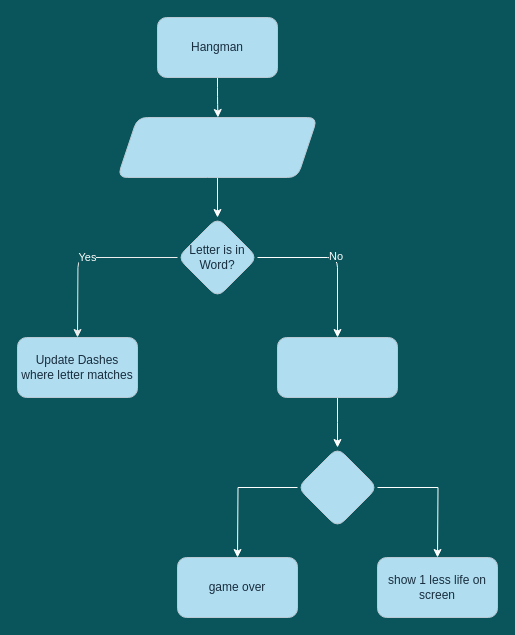
This 515x635 diagram has some shape labels left out. The shapes that lost their labels are listed below. From the top down, each one's box as (x1, y1, x2, y2) in pixels, then its label:
(116, 116, 318, 178): User Clicks a Button
(276, 336, 398, 398): Decrease life
(296, 446, 378, 528): Life is 0
